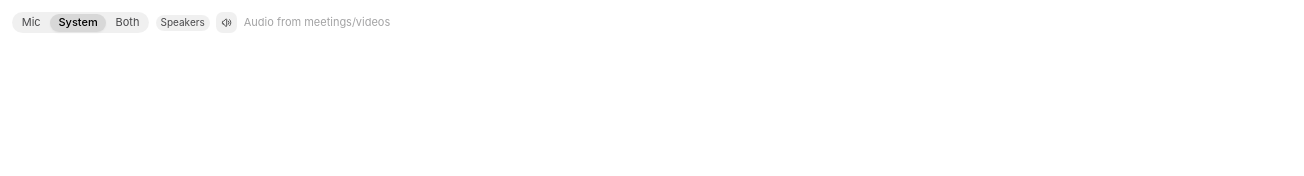
Test case: AudioCapture › whisper model and notes › should let the notes offer be dismissed
The image size is (1304, 176).
Click the button "Mic" at (31, 23), box [14,14,49,32]
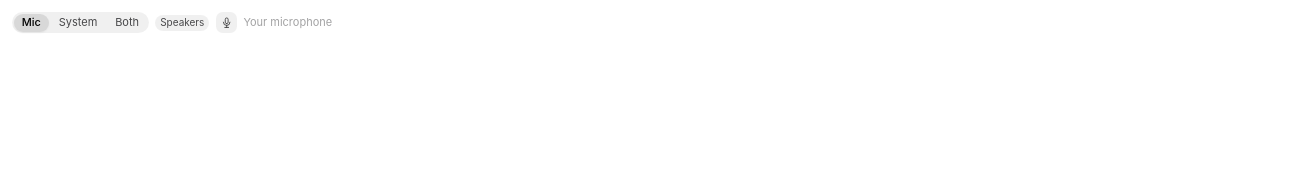
Click the button titled "Transcribe" at (226, 23), box [216,12,237,33]
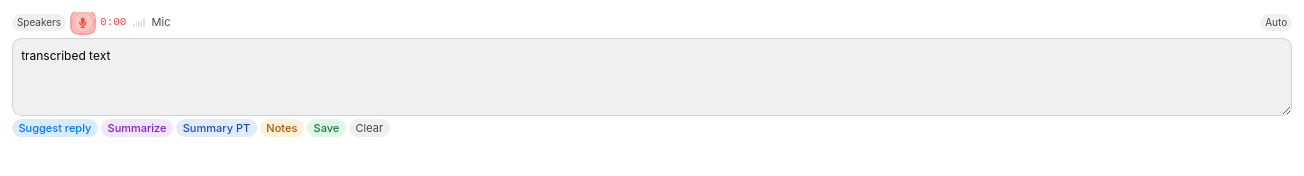
Expected: the text "transcribed text" is shown, [21,48,110,62]
Click the button titled "Stop" at (83, 23), box [72,12,94,33]
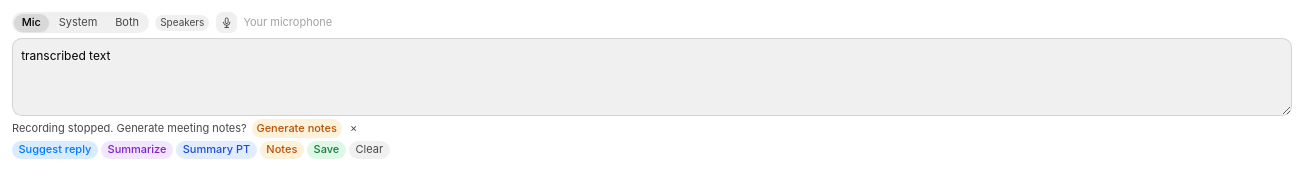
Expected: the text "Recording stopped. Generate meeting notes?" is shown, [12,121,247,136]
Click the button titled "Dismiss" at (354, 128), box [347,121,360,136]
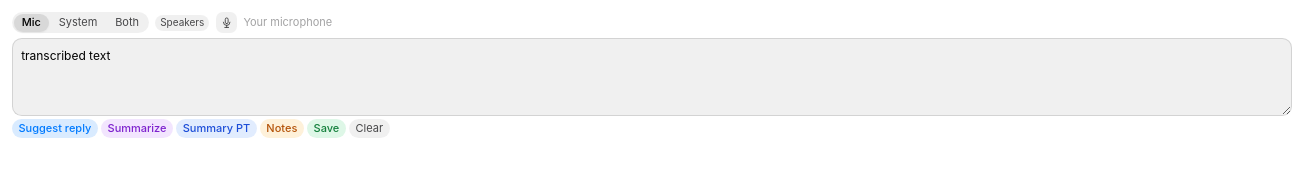
Expected: the text "Generate meeting notes?" is gone
